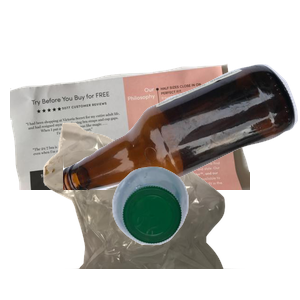glass: (63, 62, 300, 242)
paper: (10, 61, 250, 241)
plastic: (110, 164, 300, 300)
trash: (41, 120, 276, 300)
